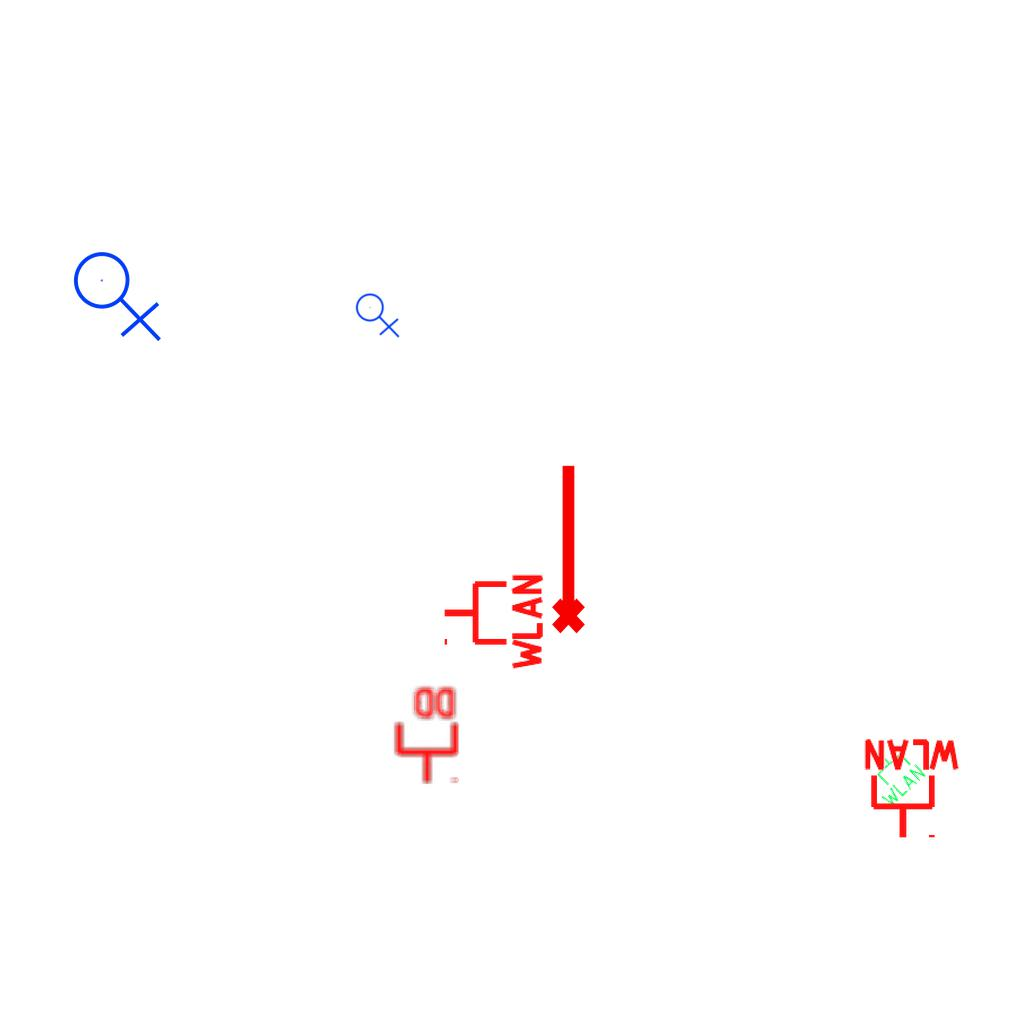ASR_Ansaugoeffnung: (543, 460, 589, 636)
Datenanschluss_zweifach: (391, 683, 460, 786)
Elektroanschluss_allgemein_230V_Geraeteanschlussdose_230V: (72, 243, 166, 342), (355, 289, 402, 338)
WLAN: (440, 570, 545, 674), (860, 737, 964, 842), (855, 737, 929, 811)
